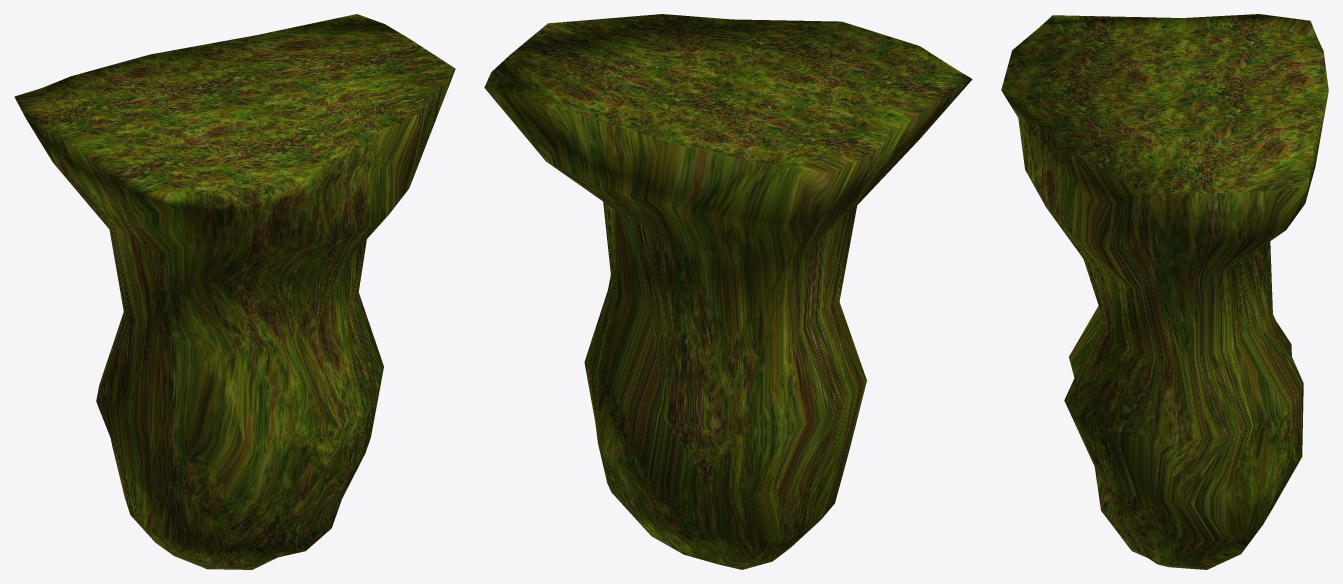
File: LVL_ROAST_MUTTON_ROCK_PLATFORM.fbx
3 renders of one model, left to right at view 1: azimuth 30°, elevation 25°; view 2: azimuth 150°, elevation 25°; view 3: azimuth 270°, elevation 25°, orthographic. The views are drawn at different scales.
Parts seen in each view (by area): view 1: LVL_ROAST_MUTTON_ROCK_PLATFORM; view 2: LVL_ROAST_MUTTON_ROCK_PLATFORM; view 3: LVL_ROAST_MUTTON_ROCK_PLATFORM.
Part boxes in pixels (x1,y1,x2,y2): LVL_ROAST_MUTTON_ROCK_PLATFORM: (14, 14, 455, 569); LVL_ROAST_MUTTON_ROCK_PLATFORM: (484, 14, 972, 569); LVL_ROAST_MUTTON_ROCK_PLATFORM: (1001, 14, 1328, 569).
Size of the model in its own units: 69847 by 82487 by 53574.
1 material, 1 textured.
